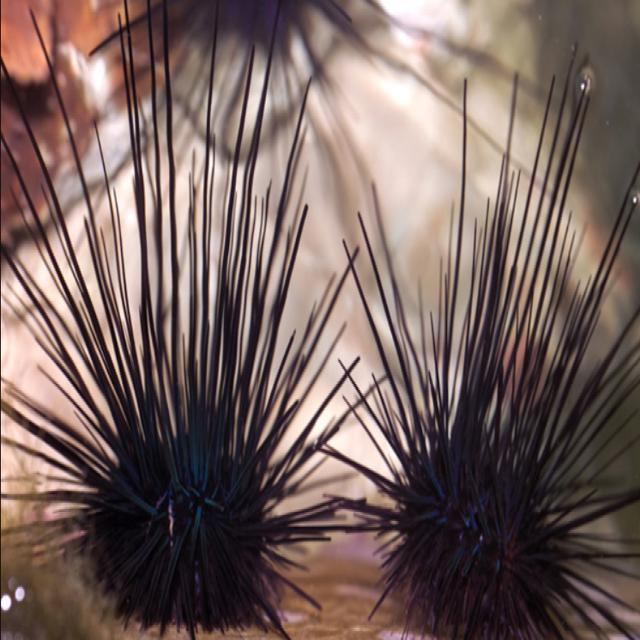Urchin: (1, 39, 353, 640), (349, 55, 640, 640)
